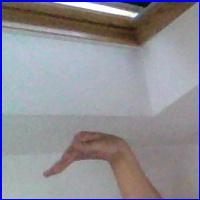del: (39, 129, 139, 188)
